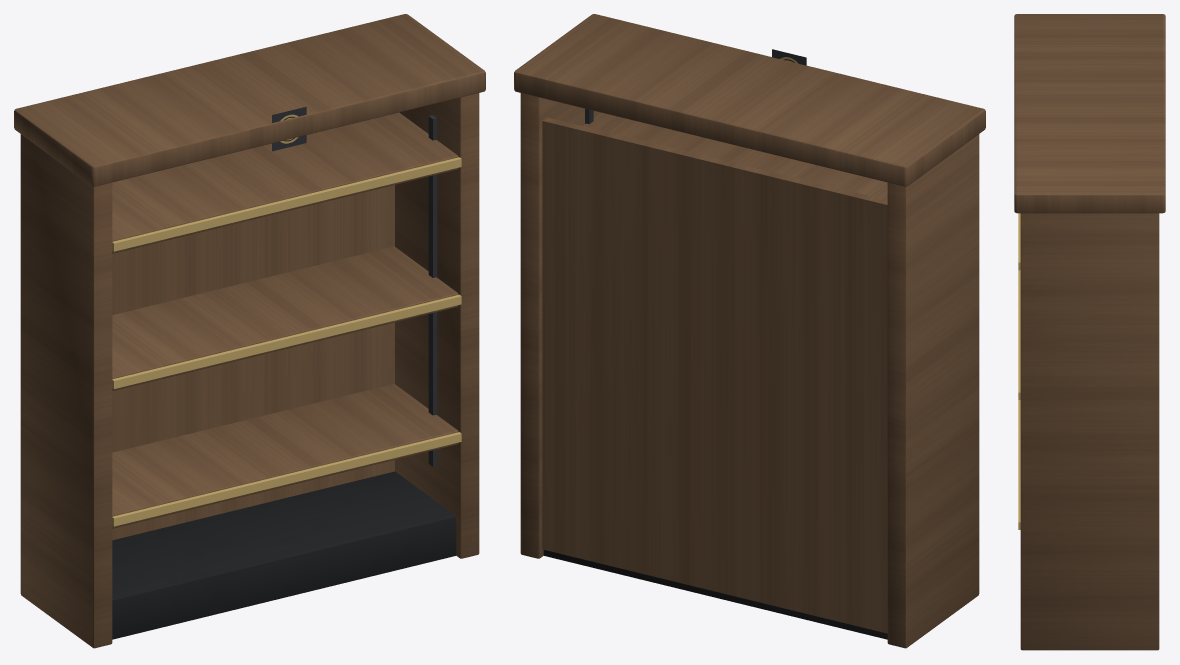
File: ball_shelf.glb
The picture shows the model from 3 angles, left to right: view 1: azimuth 30°, elevation 25°; view 2: azimuth 150°, elevation 25°; view 3: azimuth 270°, elevation 25°; orthographic projection. The views are drawn at different scales.
Parts seen in each view (by area): view 1: Side_L, Top, Back_Panel, Plinth, Side_R, Board_01, Board_02, Board_03, Board_Lip_01, Board_Lip_03, Board_Lip_02, PinRail_R; view 2: Back_Panel, Side_L, Top, Side_R, Board_03, Plinth; view 3: Side_R, Top, Board_Lip_01, Board_Lip_02.
Boxes of the visible parts, x1,y1,x2,y2 form: Side_L: (20, 134, 112, 648); Top: (14, 14, 485, 186); Back_Panel: (112, 185, 394, 540); Plinth: (112, 471, 456, 639); Side_R: (395, 93, 479, 558); Board_01: (112, 384, 458, 528); Board_02: (112, 246, 458, 390); Board_03: (112, 112, 458, 253); Board_Lip_01: (112, 432, 461, 526); Board_Lip_03: (112, 157, 461, 251); Board_Lip_02: (112, 294, 461, 388); PinRail_R: (428, 115, 437, 466); Back_Panel: (542, 117, 887, 633); Side_L: (887, 134, 979, 648); Top: (514, 14, 985, 186); Side_R: (520, 93, 600, 558); Board_03: (583, 112, 887, 200); Plinth: (543, 550, 887, 639); Side_R: (1020, 213, 1159, 650); Top: (1014, 14, 1165, 213); Board_Lip_01: (1018, 400, 1020, 529); Board_Lip_02: (1018, 270, 1020, 399).
Bounding box in the file's own units: 1.02 × 1.22 × 0.36.
Materials: 6 (4 with a texture image).
